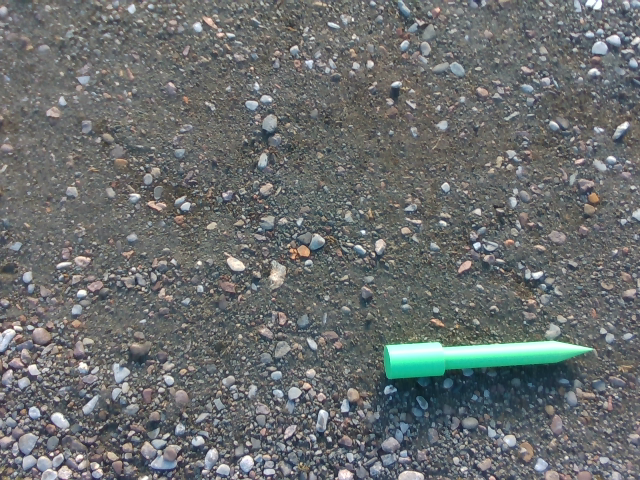Probe: (380, 334, 603, 382)
